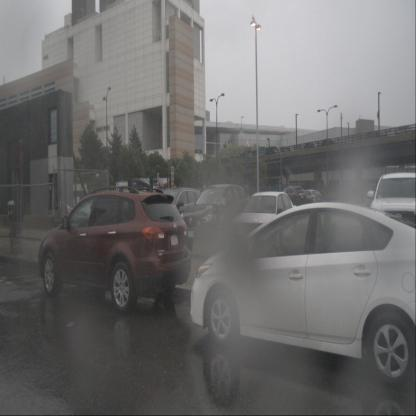vehicle-car: (190, 198, 416, 388), (38, 190, 191, 314), (180, 185, 249, 247), (366, 172, 416, 256), (231, 192, 299, 252), (149, 188, 207, 243), (277, 186, 306, 209), (298, 190, 322, 206), (394, 126, 414, 137), (364, 132, 386, 142), (322, 139, 336, 148), (304, 142, 317, 151), (284, 146, 295, 154)
